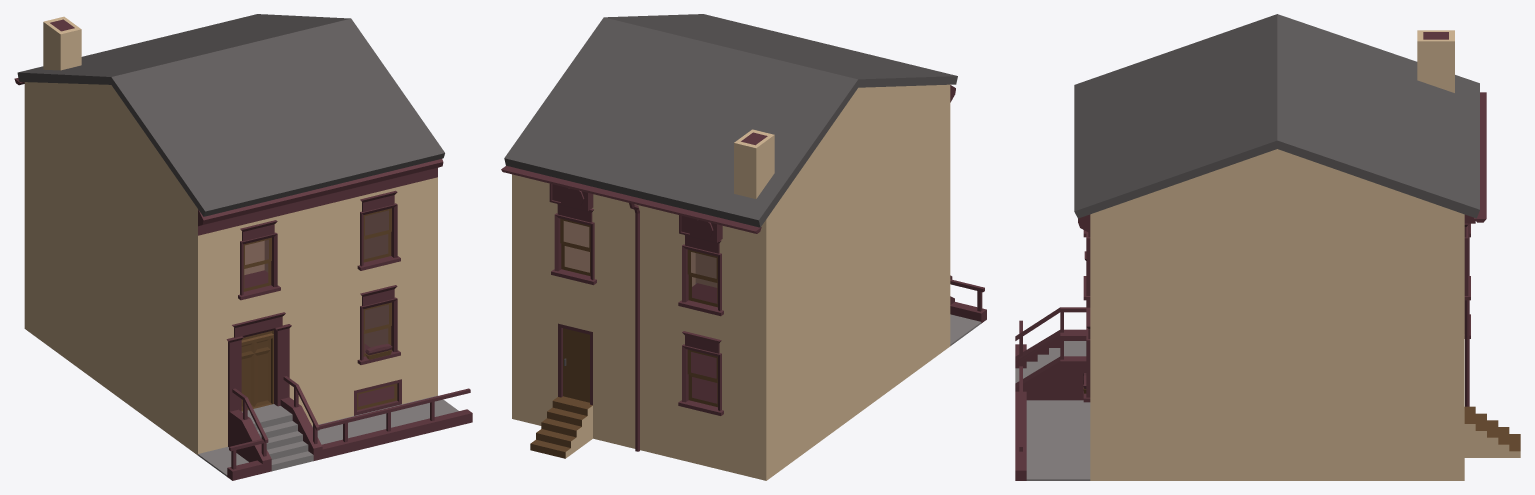
File: building-house-block-big.fbx
3 renders of one model, left to right at view 1: azimuth 30°, elevation 25°; view 2: azimuth 150°, elevation 25°; view 3: azimuth 270°, elevation 25°, orthographic. The views are drawn at different scales.
Visible parts, largest first — view 1: building-house-block-big; view 2: building-house-block-big; view 3: building-house-block-big.
Boxes of the visible parts, <box> form: building-house-block-big: <box>14,14,472,480</box>; building-house-block-big: <box>501,14,986,480</box>; building-house-block-big: <box>1015,14,1520,480</box>.
Bounding box in the file's own units: 8 × 10.04 × 13.5.
